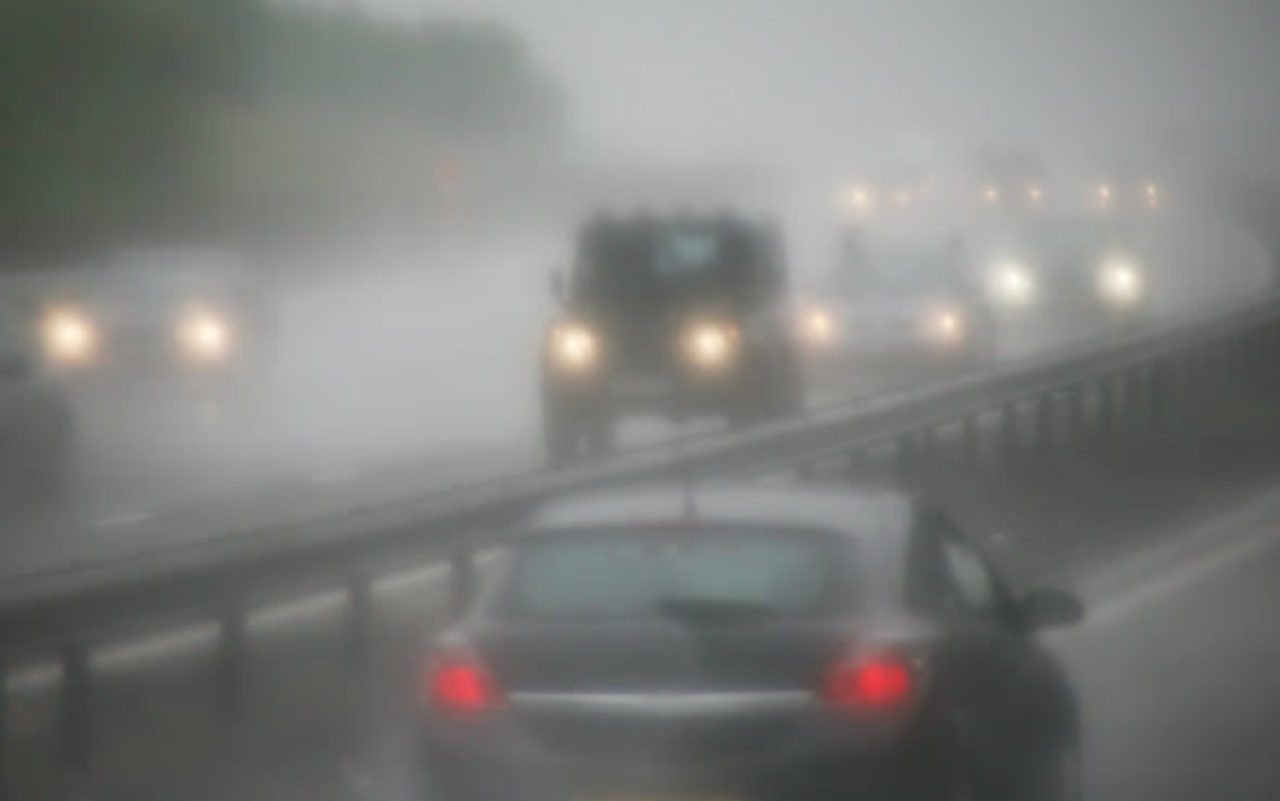car: (436, 489, 1082, 796), (542, 212, 802, 422), (45, 244, 280, 399), (799, 254, 985, 370), (989, 217, 1141, 324), (1090, 159, 1166, 217), (848, 155, 912, 220), (980, 158, 1051, 212), (908, 146, 945, 216)
